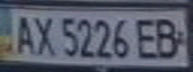2: (90, 15, 115, 60), (75, 15, 96, 60)
5: (54, 14, 78, 58)
6: (109, 15, 136, 61)
A: (6, 11, 36, 56)
B: (151, 14, 187, 61)
E: (133, 15, 163, 61)
X: (30, 12, 57, 57)
